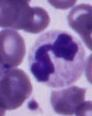N: (30, 30, 86, 86)
